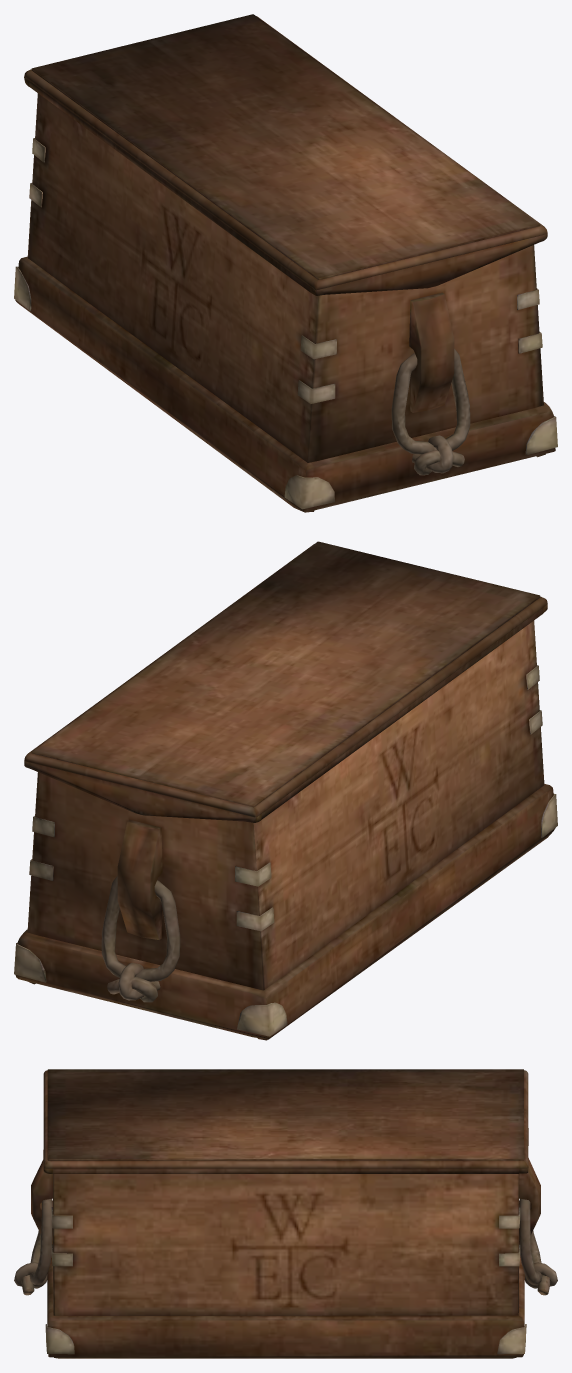
File: crate_wood.glb
3 views of the same model, one above another, from view 1: azimuth 30°, elevation 25°; view 2: azimuth 150°, elevation 25°; view 3: azimuth 270°, elevation 25° (orthographic). The views are drawn at different scales.
Visible parts, largest first — view 1: wooden_crate_02_crate, wooden_crate_02_lid; view 2: wooden_crate_02_crate, wooden_crate_02_lid; view 3: wooden_crate_02_crate, wooden_crate_02_lid.
Boxes of the visible parts, bbox=[...] form: wooden_crate_02_crate: bbox=[14, 93, 557, 512]; wooden_crate_02_lid: bbox=[24, 14, 547, 295]; wooden_crate_02_crate: bbox=[14, 620, 557, 1040]; wooden_crate_02_lid: bbox=[24, 541, 547, 822]; wooden_crate_02_crate: bbox=[14, 1158, 557, 1358]; wooden_crate_02_lid: bbox=[43, 1069, 528, 1173].
Size of the model in its own units: 0.5291 by 0.464 by 1.17.
Materials: 1 (1 with a texture image).
